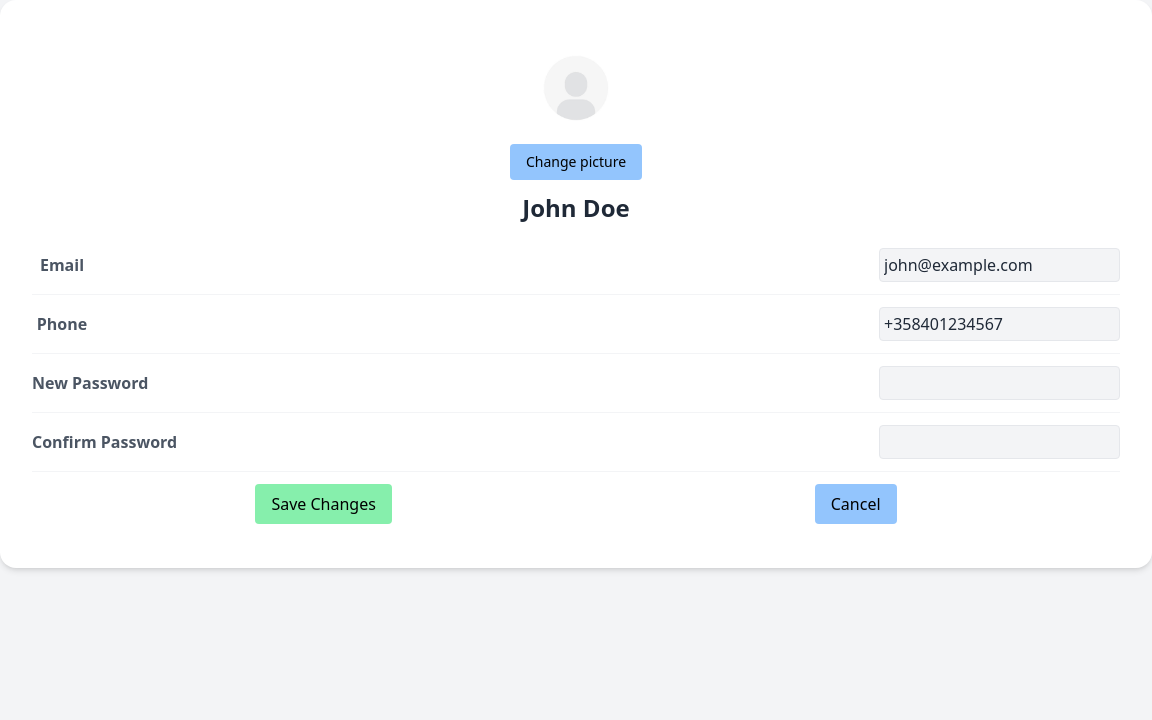
Test: EditPage validation › shows error when email is empty
Clear the field labelled "Email" at (1000, 265), box [879,248,1120,282]
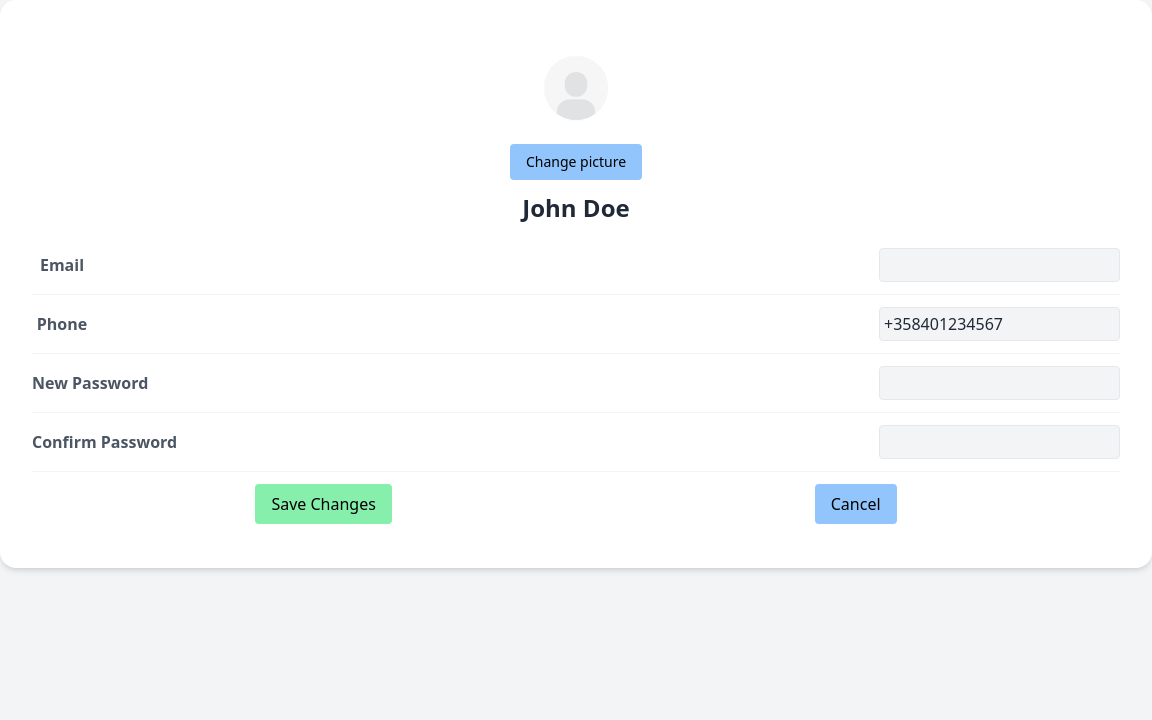
Click the button showing "Save Changes" at (324, 504), box [255,484,392,524]
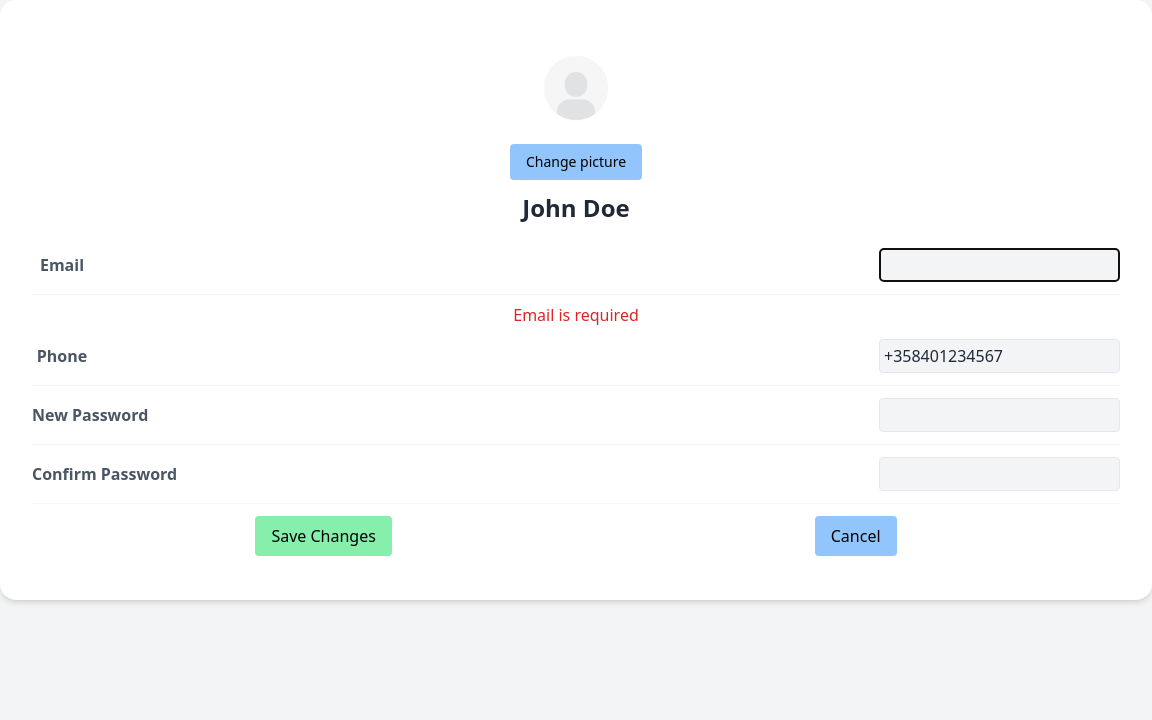
Check: the text "Email is required" is shown, box [513,304,639,326]
